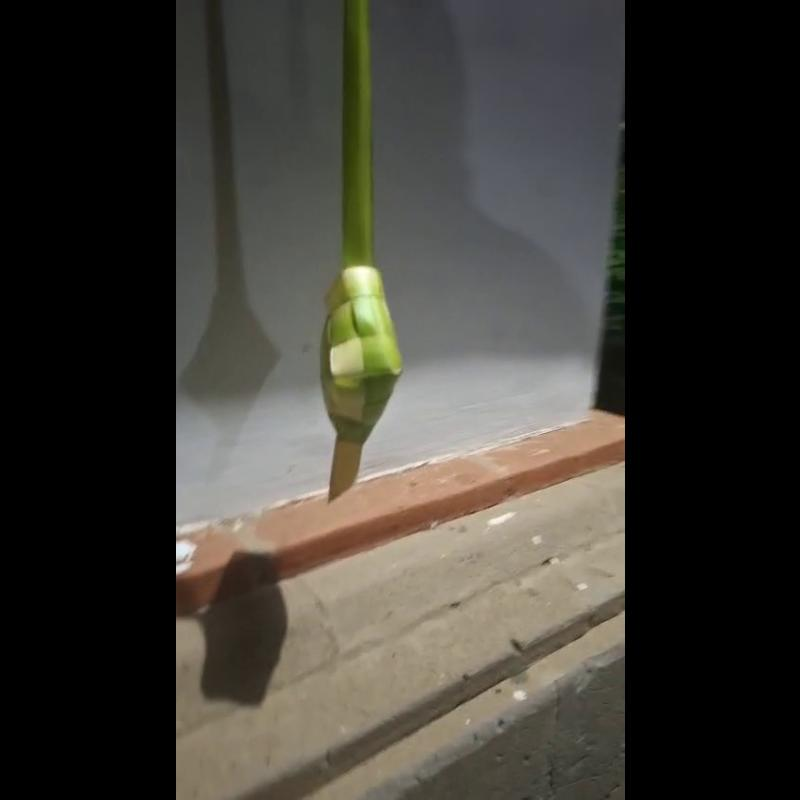Tipat Nasi: (314, 264, 405, 504), (319, 264, 406, 500)
